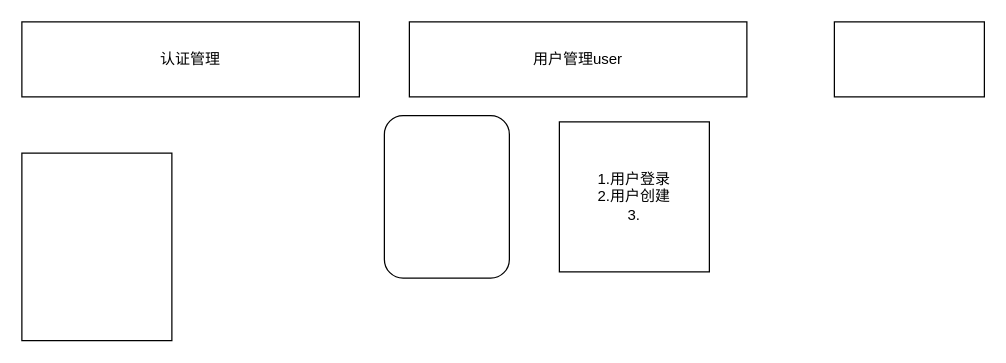
Some shapes in this 1006 by 363 pixel diagram are drawn without their labels. Each missing label, with the centre of its shape:
"1.用户的id 2.username 3.password 4.用户角色（role 读者和作者）" belongs at point (446, 196).
"文章管理" belongs at point (908, 59).
